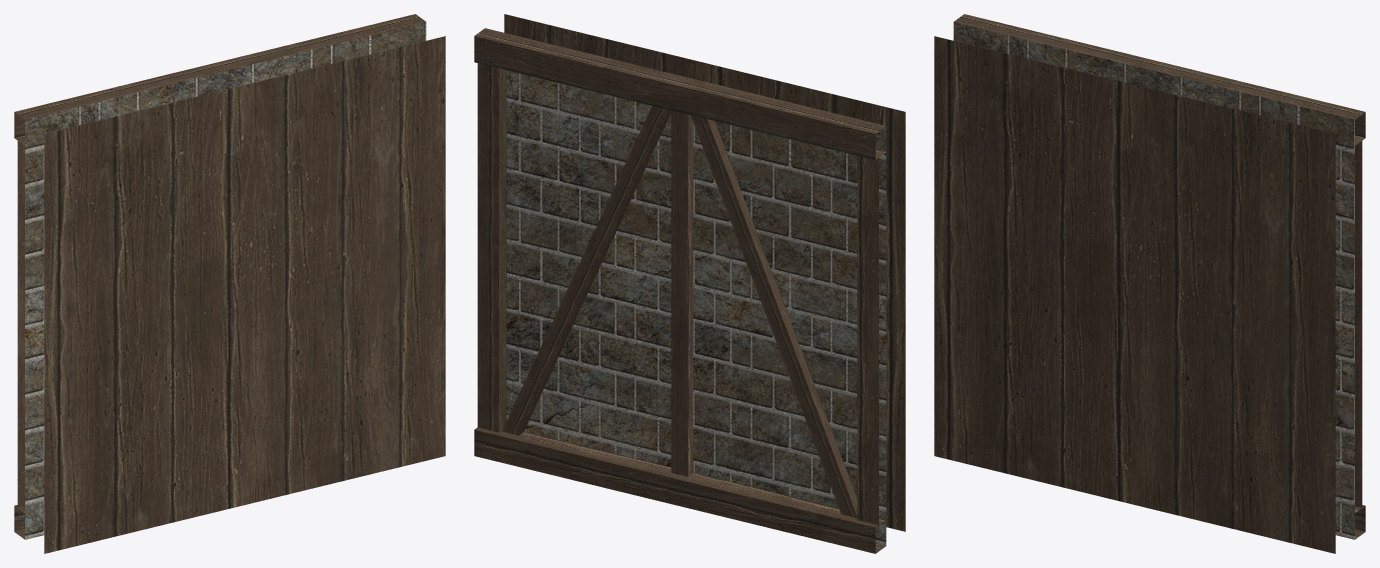
File: ARC1010220.fbx
The picture shows the model from 3 angles, left to right: view 1: azimuth 30°, elevation 25°; view 2: azimuth 150°, elevation 25°; view 3: azimuth 330°, elevation 25°; orthographic projection.
Visible parts, largest first — view 1: smARC1010220; view 2: smARC1010220; view 3: smARC1010220.
Boxes of the visible parts, <box> form: smARC1010220: <box>14,14,445,553</box>; smARC1010220: <box>474,14,905,553</box>; smARC1010220: <box>934,14,1365,553</box>.
Bounding box in the file's own units: 268 × 268 × 34.9.
Materials: 1 (1 with a texture image).
